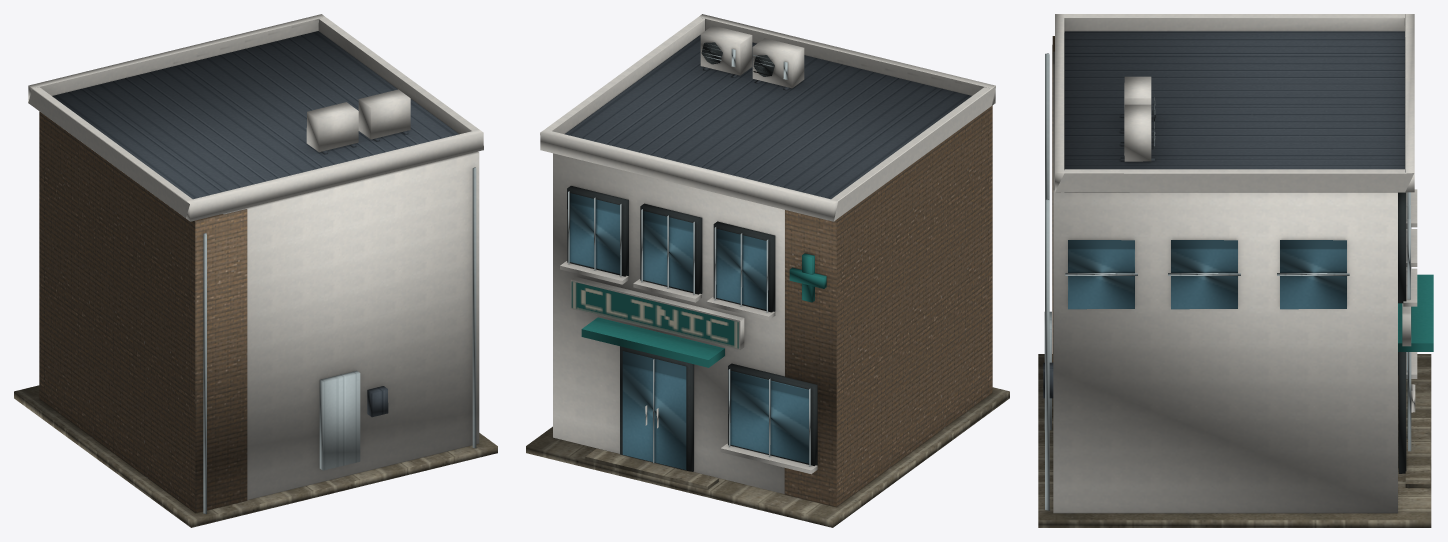
Rendered from public_001.obj.
The picture shows the model from 3 angles, left to right: view 1: azimuth 30°, elevation 25°; view 2: azimuth 150°, elevation 25°; view 3: azimuth 270°, elevation 25°; orthographic projection. The views are drawn at different scales.
Parts seen in each view (by area): view 1: public_001; view 2: public_001; view 3: public_001.
Part boxes in pixels (bbox=[...]): public_001: bbox=[14, 14, 497, 527]; public_001: bbox=[526, 14, 1009, 527]; public_001: bbox=[1038, 14, 1433, 527].
Bounding box in the file's own units: 6.5 × 6.85 × 6.54.
1 material, 1 textured.
